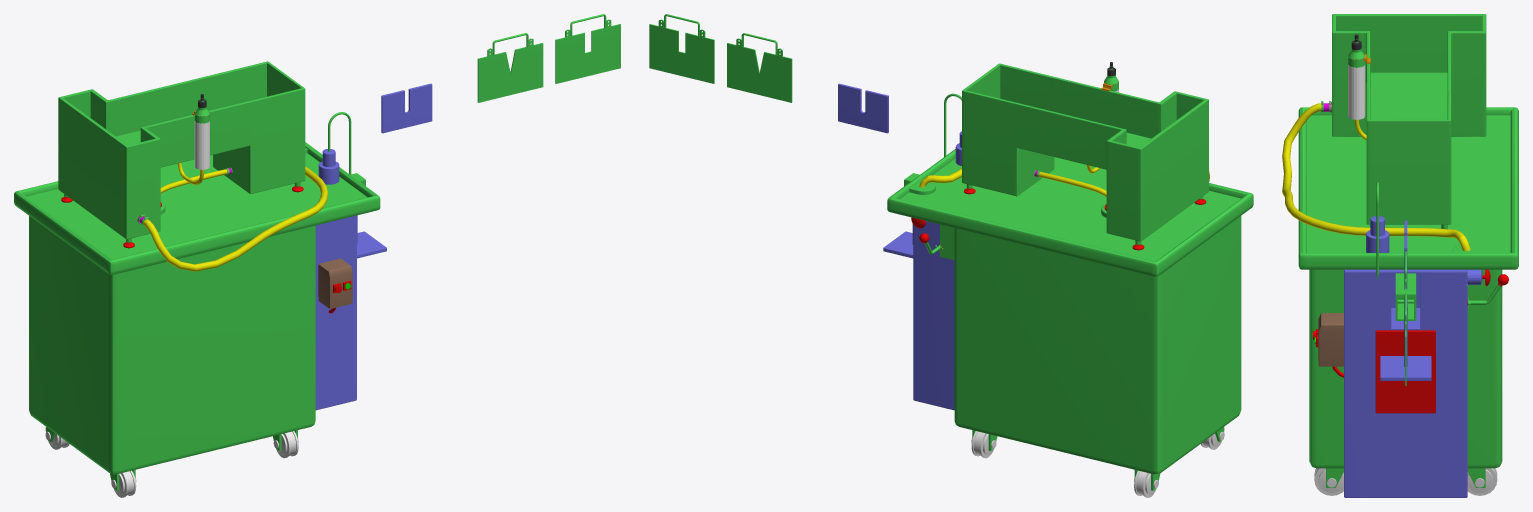
Rendered from Dam_Table (1).fbx.
3 renders of one model, left to right at view 1: azimuth 30°, elevation 25°; view 2: azimuth 150°, elevation 25°; view 3: azimuth 270°, elevation 25°, orthographic. The views are drawn at different scales.
Visible parts, largest first — view 1: pCube3, pCylinder24, pCube4, pCube21, pCylinder52, pCylinder58, pCube15, pCube14, polySurface16; view 2: pCube3, pCylinder24, pCube4, pCube21, pCylinder52, pCube15; view 3: pCube3, pCube4, pCylinder24, pCylinder58, pCube14, TableX01_1:pTorus1, polySurface16, pCylinder13, pCylinder17, pCylinder6, pCylinder2, pTorus2 (+1 smaller).
Boxes of the visible parts, <box> form: pCube3: <box>14,142,380,497</box>; pCylinder24: <box>58,61,305,248</box>; pCube4: <box>315,215,356,410</box>; pCube21: <box>477,33,543,102</box>; pCylinder52: <box>555,14,620,83</box>; pCylinder58: <box>137,166,328,271</box>; pCube15: <box>381,83,432,133</box>; pCube14: <box>318,258,352,313</box>; polySurface16: <box>194,113,209,169</box>; pCube3: <box>887,149,1253,497</box>; pCylinder24: <box>962,63,1208,250</box>; pCube4: <box>913,222,954,410</box>; pCube21: <box>727,33,792,102</box>; pCylinder52: <box>649,14,714,83</box>; pCube15: <box>838,83,888,133</box>; pCube3: <box>1298,107,1518,495</box>; pCube4: <box>1344,269,1470,497</box>; pCylinder24: <box>1332,14,1486,229</box>; pCylinder58: <box>1282,101,1470,250</box>; pCube14: <box>1316,313,1343,377</box>; TableX01_1:pTorus1: <box>1380,298,1431,380</box>; polySurface16: <box>1348,56,1365,119</box>; pCylinder13: <box>1395,273,1416,320</box>; pCylinder17: <box>1366,216,1389,252</box>; pCylinder6: <box>1467,269,1490,286</box>; pCylinder2: <box>1468,274,1508,307</box>; pTorus2: <box>1376,182,1378,278</box>.
Size of the model in its own units: 241 by 153 by 78.44.
